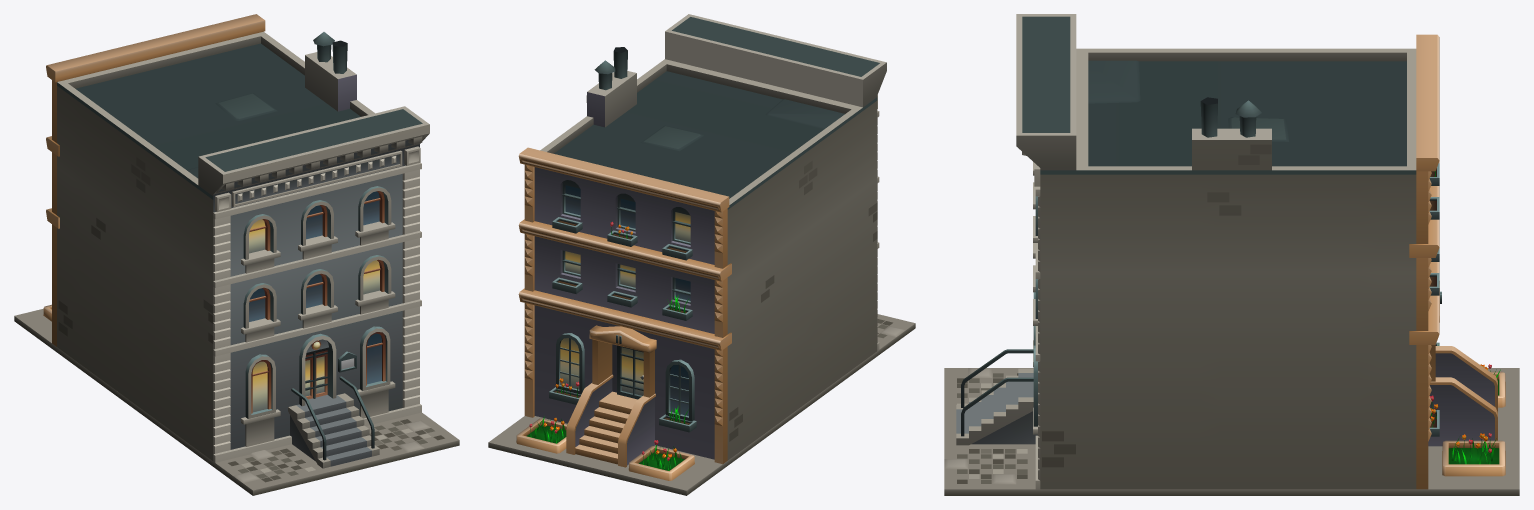
Rendered from Brownstone_1A.fbx.
3 renders of one model, left to right at view 1: azimuth 30°, elevation 25°; view 2: azimuth 150°, elevation 25°; view 3: azimuth 270°, elevation 25°, orthographic. The views are drawn at different scales.
Parts seen in each view (by area): view 1: Brownstone_1A, Brownstone_1A_Window_Lights; view 2: Brownstone_1A, Brownstone_1A_Window_Lights; view 3: Brownstone_1A.
Boxes of the visible parts, bbox=[...] form: Brownstone_1A: bbox=[14, 14, 459, 495]; Brownstone_1A_Window_Lights: bbox=[249, 219, 379, 412]; Brownstone_1A: bbox=[488, 14, 915, 495]; Brownstone_1A_Window_Lights: bbox=[560, 212, 690, 395]; Brownstone_1A: bbox=[944, 14, 1519, 495].
Size of the model in its own units: 1218 by 1796 by 2400.
